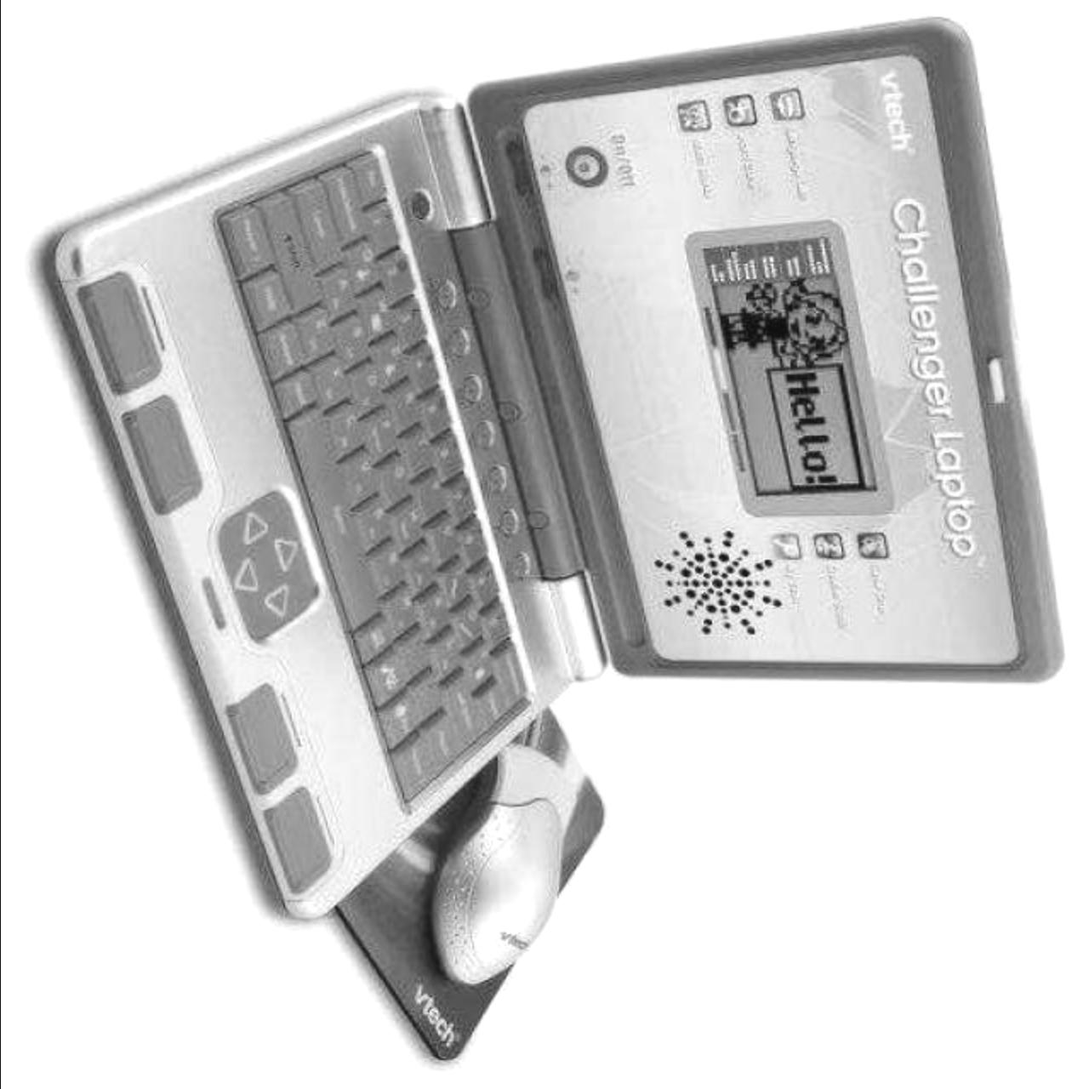laptop: (126, 85, 949, 847)
